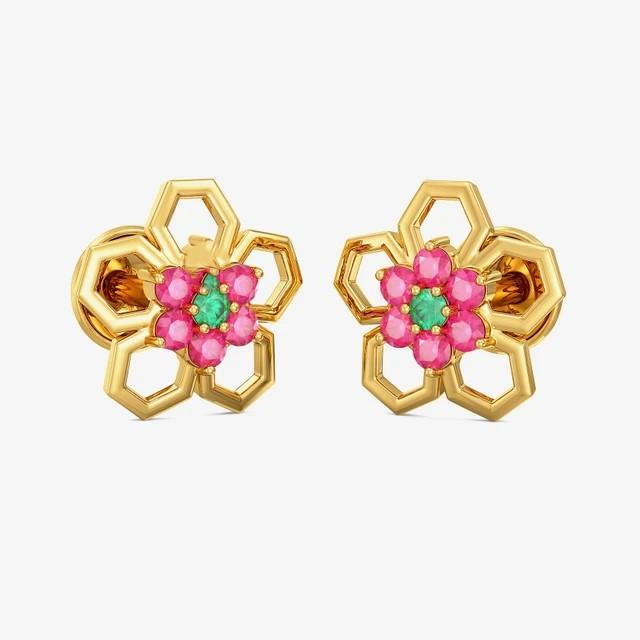missing gem: (185, 239, 217, 274)
